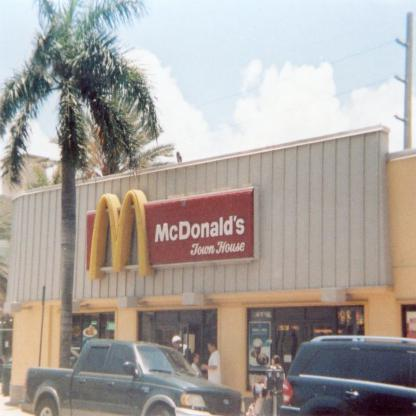Truck: (28, 344, 226, 416)
